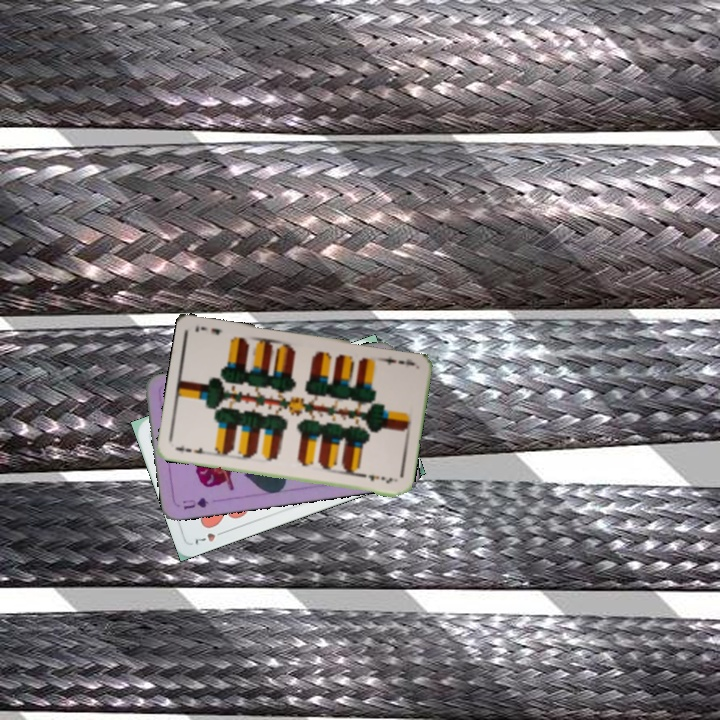E7: (376, 353, 417, 368), (171, 442, 211, 457)
GU: (178, 494, 211, 512)
H7: (191, 527, 229, 547)
